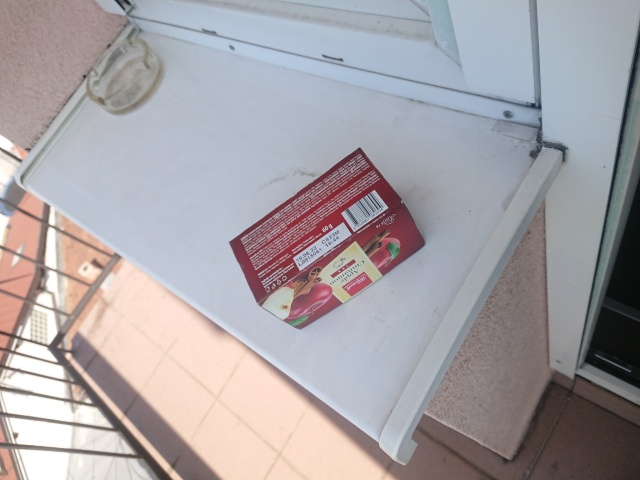Franck Apple Cinnamon Tea 60g: (226, 144, 428, 331)
